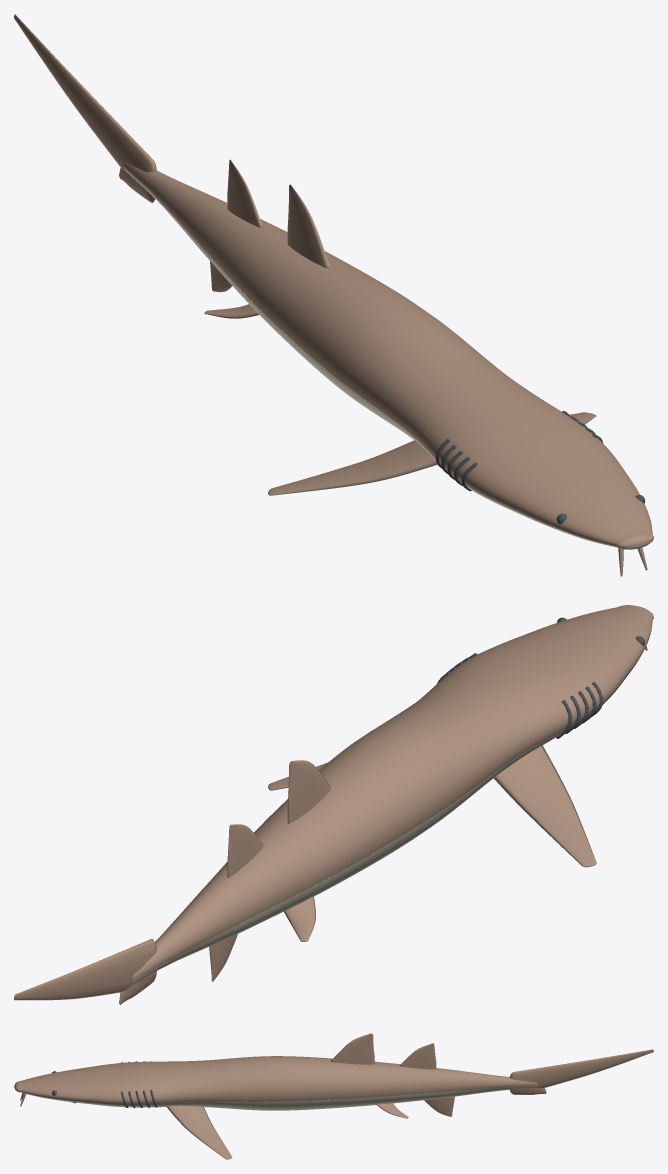
The model's file is ocean-giants-kit-nurse-shark-4b188028__39338.glb.
3 views of the same model, one above another, from view 1: azimuth 30°, elevation 25°; view 2: azimuth 150°, elevation 25°; view 3: azimuth 270°, elevation 25° (orthographic). The views are drawn at different scales.
Visible parts, largest first — view 1: nurse-shark; view 2: nurse-shark; view 3: nurse-shark.
Part boxes in pixels (left/top/right/bottom): nurse-shark: left=14, top=14, right=653, bottom=576; nurse-shark: left=14, top=605, right=653, bottom=1004; nurse-shark: left=14, top=1033, right=653, bottom=1159.
Bounding box in the file's own units: 0.8433 × 0.4143 × 2.8.
